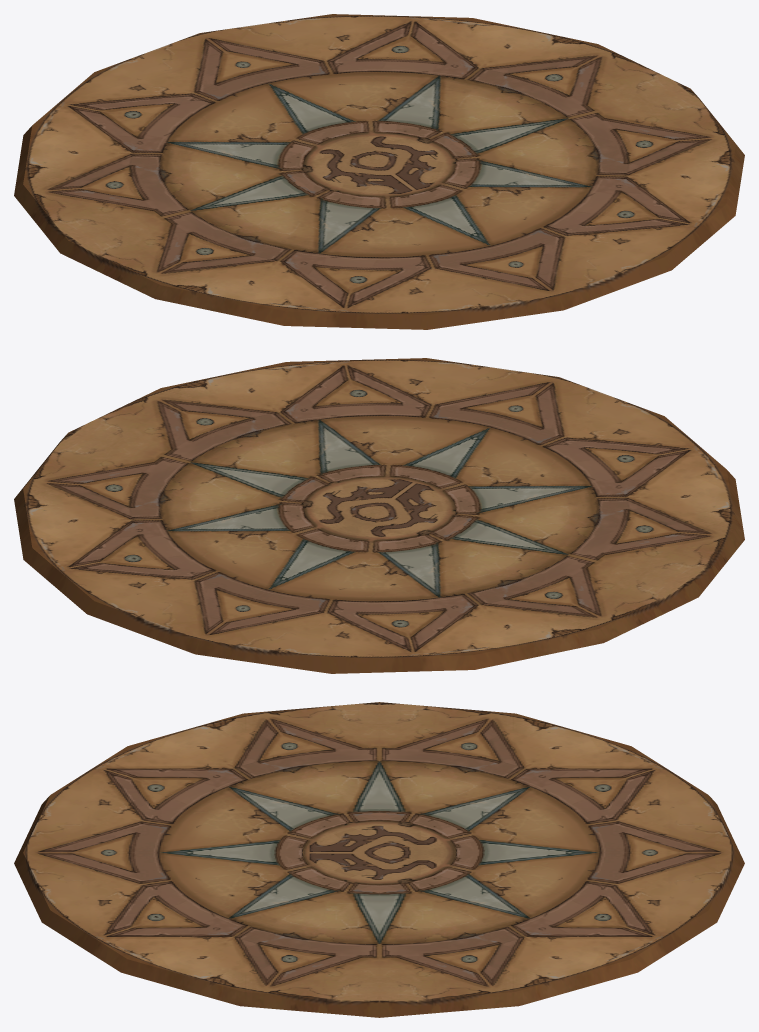
Rendered from 2_SM_ZhongXinTuAn_01.FBX.
3 renders of one model, top to bottom at view 1: azimuth 30°, elevation 25°; view 2: azimuth 150°, elevation 25°; view 3: azimuth 270°, elevation 25°, orthographic.
Visible parts, largest first — view 1: 2_SM_ZhongXinTuAn_01; view 2: 2_SM_ZhongXinTuAn_01; view 3: 2_SM_ZhongXinTuAn_01.
Part boxes in pixels (x1,y1,x2,y2): 2_SM_ZhongXinTuAn_01: (14,14,744,329); 2_SM_ZhongXinTuAn_01: (14,358,744,673); 2_SM_ZhongXinTuAn_01: (14,702,744,1017).
Size of the model in its own units: 2000 by 32.4 by 2000.
